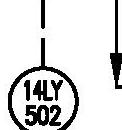instrumenttag: (9, 67, 79, 130)
